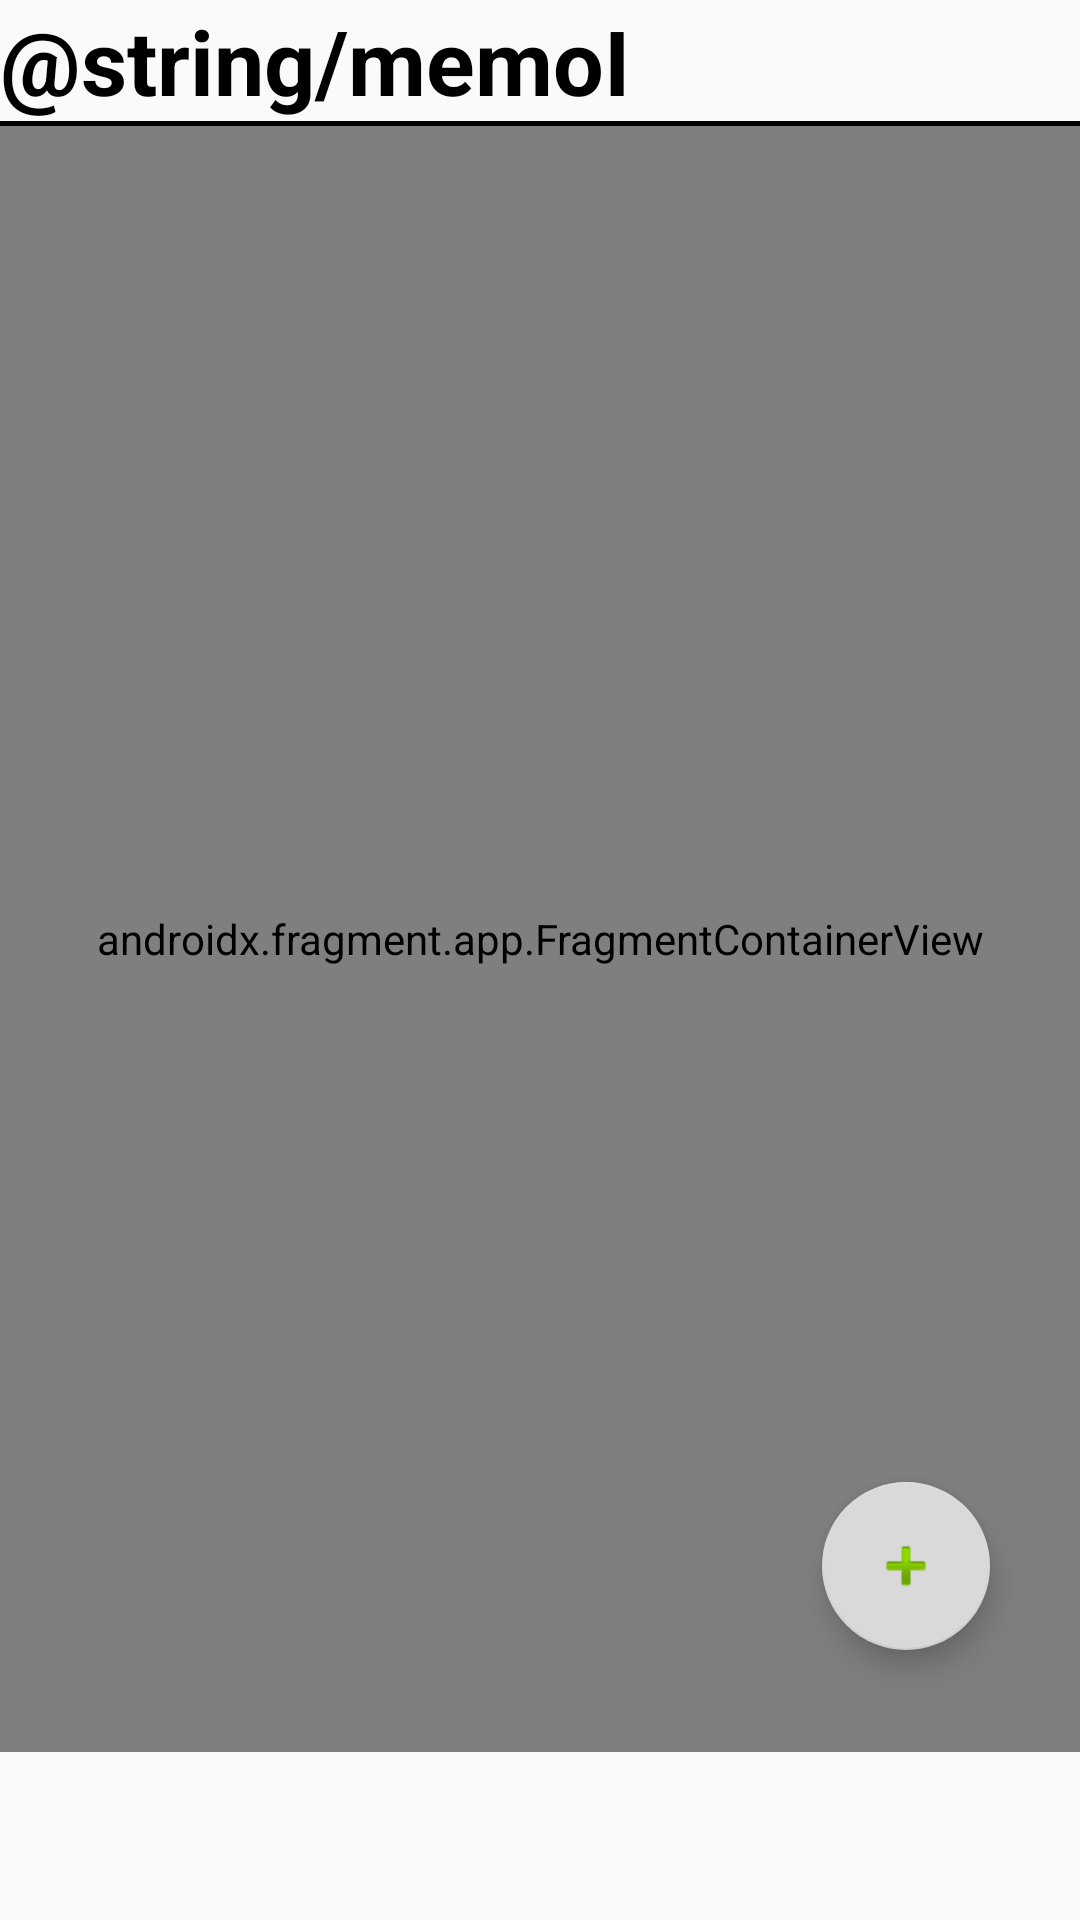

Named icons in this screenshot (1080 × 1920) and their bounding boxes, {"left": x1, "top": y1, "right": x2, "bottom": y2}:
add: {"left": 822, "top": 1482, "right": 990, "bottom": 1650}
